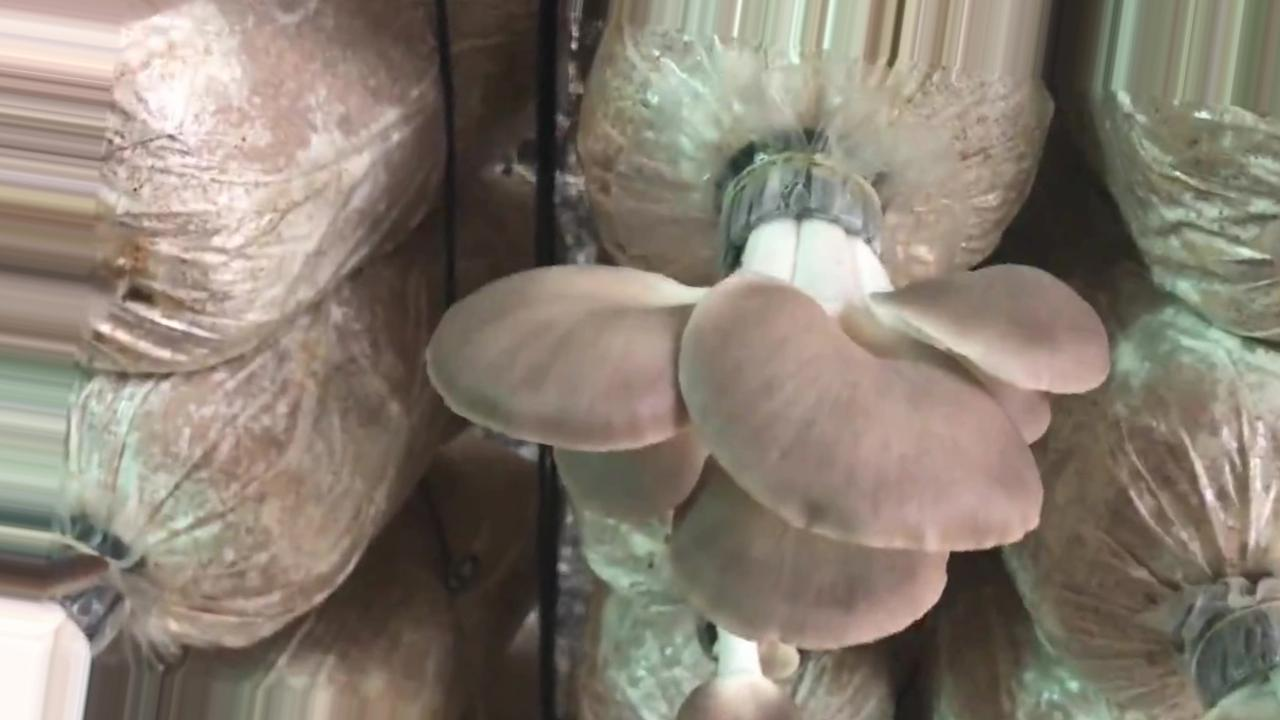nam: (430, 159, 1110, 650), (1, 532, 120, 720), (672, 616, 797, 720)
